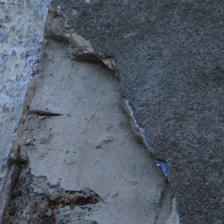Crack: (0, 55, 150, 179), (70, 38, 140, 224)
